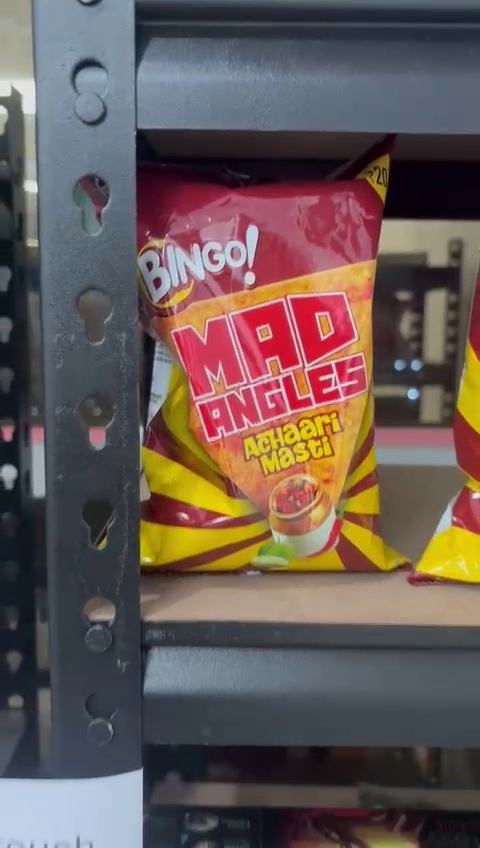Bingo Mad Angles: (134, 174, 390, 575)
